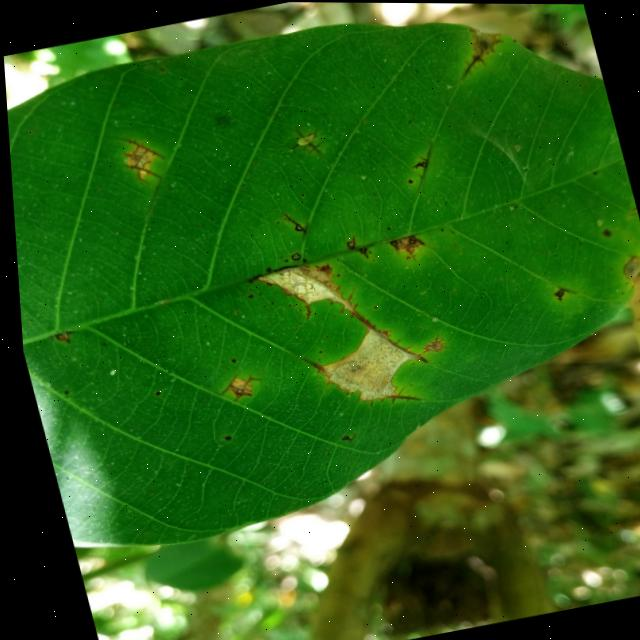Colletotrichum: (218, 435, 227, 440), (226, 358, 233, 363), (150, 391, 156, 396)
Corynespora: (342, 292, 424, 376), (115, 130, 169, 187), (212, 368, 264, 403), (385, 233, 426, 263), (292, 124, 322, 160), (378, 383, 420, 408), (280, 208, 308, 238), (456, 52, 488, 78), (295, 354, 321, 376), (549, 284, 569, 301), (298, 303, 311, 320), (341, 235, 355, 250), (335, 433, 352, 444), (354, 246, 367, 260)
Leaf-Blight: (254, 258, 349, 325), (467, 22, 505, 59), (616, 254, 640, 284)
